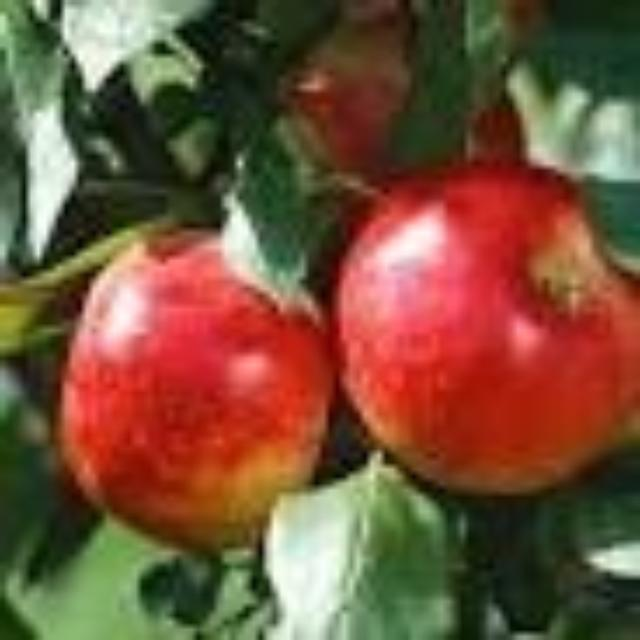Apple: (340, 164, 640, 494), (60, 232, 332, 547)
